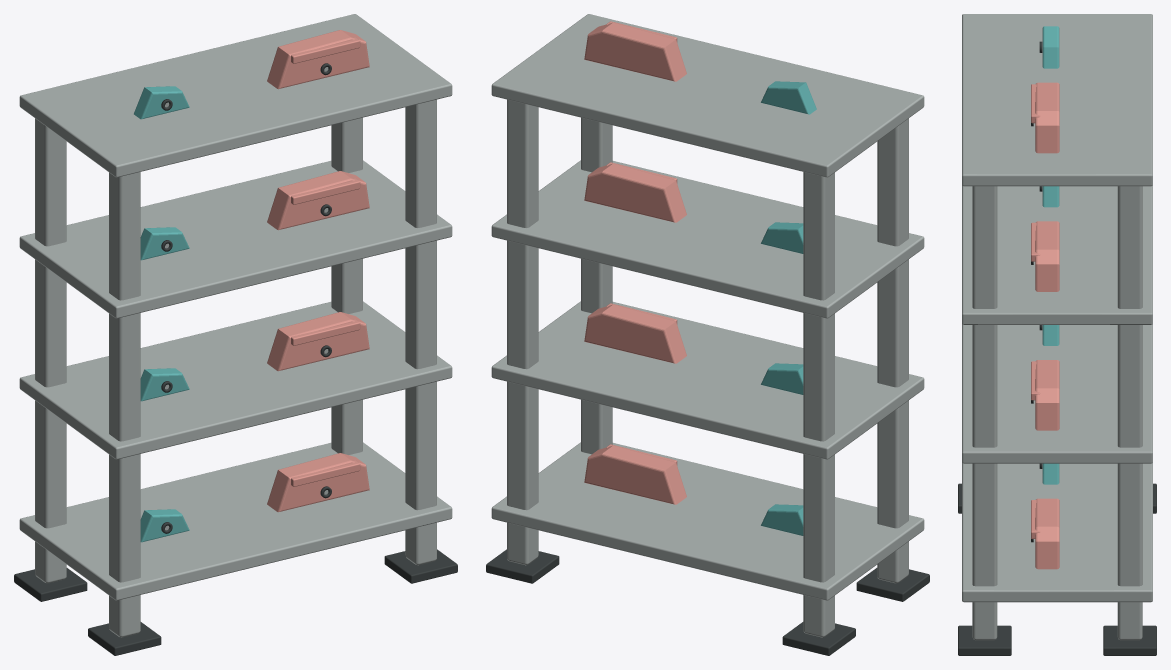
Rendered from indoor-climbing-and-bouldering-gym-indoor-climbing-and-060e7037__31539.glb.
3 views of the same model, side by side, from view 1: azimuth 30°, elevation 25°; view 2: azimuth 150°, elevation 25°; view 3: azimuth 270°, elevation 25° (orthographic).
Visible parts, largest first — view 1: indoor-climbing-and-bouldering-gym-hold-drying-rack; view 2: indoor-climbing-and-bouldering-gym-hold-drying-rack; view 3: indoor-climbing-and-bouldering-gym-hold-drying-rack.
Part boxes in pixels (left/top/right/bottom): indoor-climbing-and-bouldering-gym-hold-drying-rack: left=14, top=14, right=457, bottom=655; indoor-climbing-and-bouldering-gym-hold-drying-rack: left=486, top=14, right=929, bottom=655; indoor-climbing-and-bouldering-gym-hold-drying-rack: left=958, top=14, right=1156, bottom=655.
Size of the model in its own units: 1.02 by 1.48 by 0.5199.
